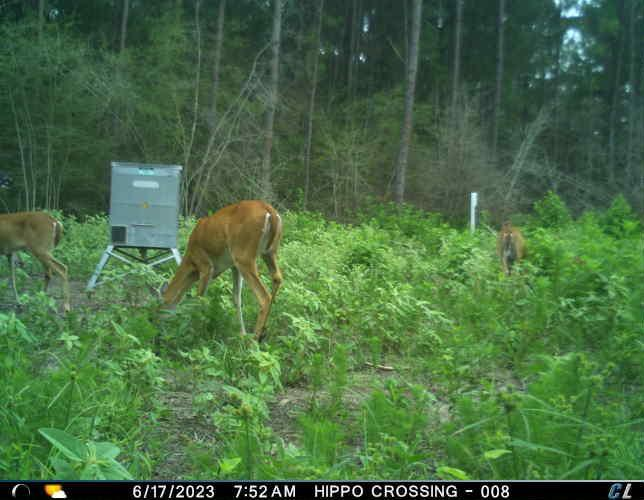Deer: (148, 199, 285, 343), (0, 207, 69, 315), (497, 222, 527, 272)
